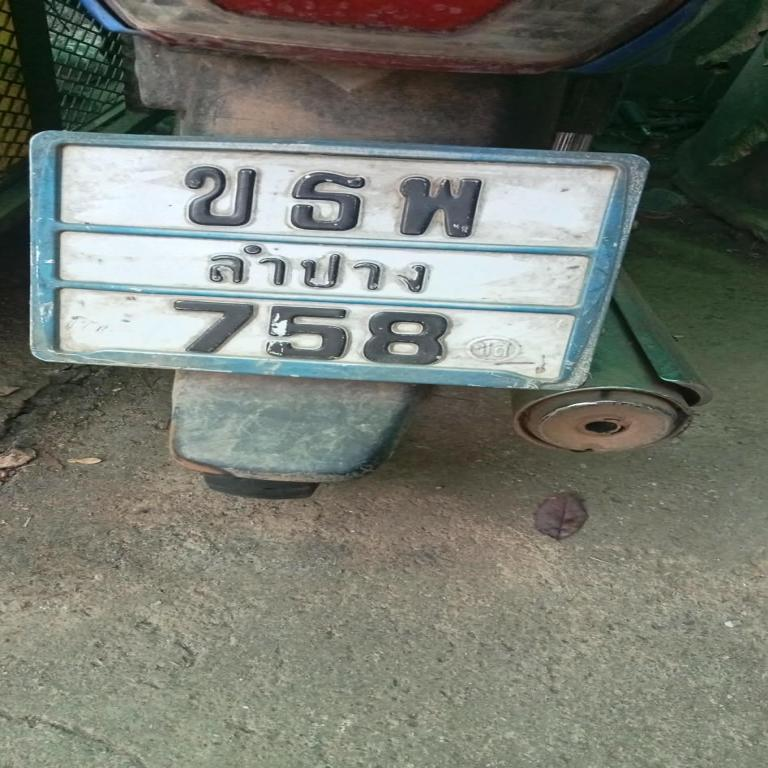license plate: (22, 126, 643, 391)
